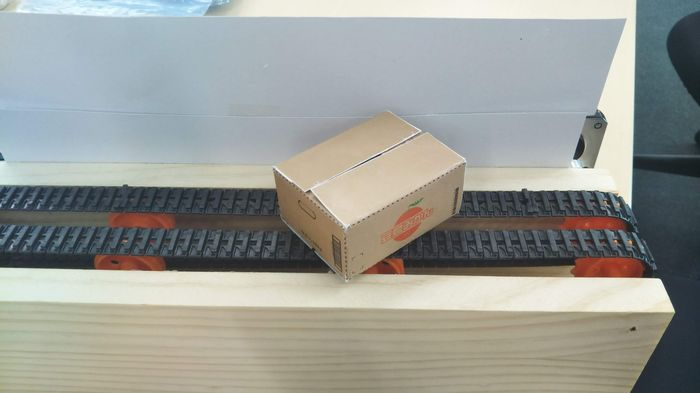box1: (270, 109, 465, 279)
